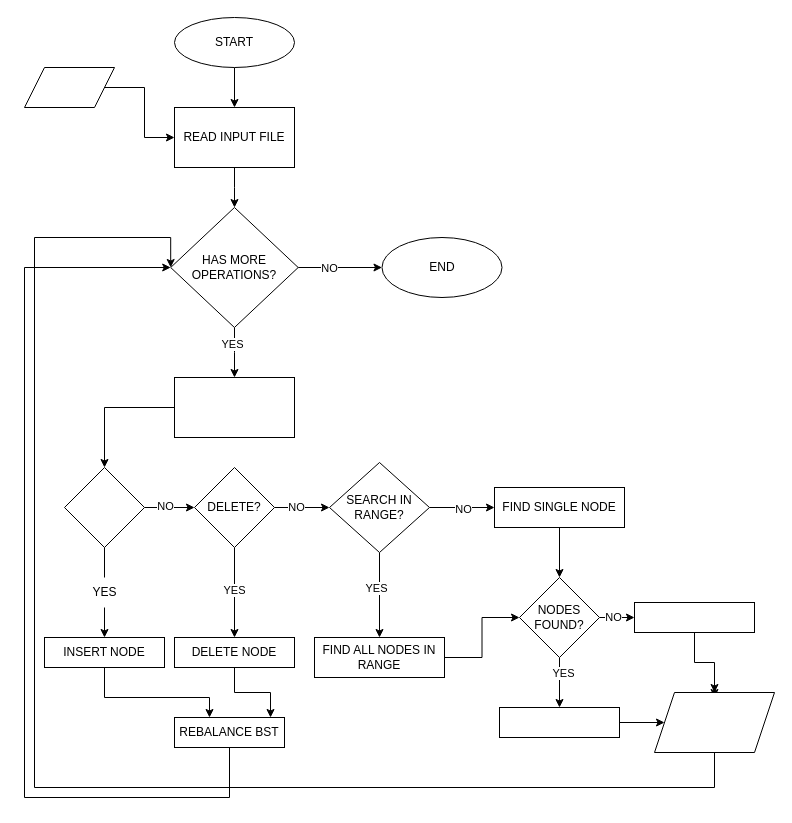
Some shapes in this 792 by 823 pixel diagram are drawn without their labels. The shapes that lost their labels are listed below. From the top down, each one's centre as x and y in pixels, then its label:
the point at 69,87: DATA IN
the point at 234,407: IDENTIFY OPERATION
the point at 104,507: INSERT?
the point at 694,617: WRITE NULL TO FILE
the point at 559,722: WRITE NODE TO FILE
the point at 714,722: DATA OUT
